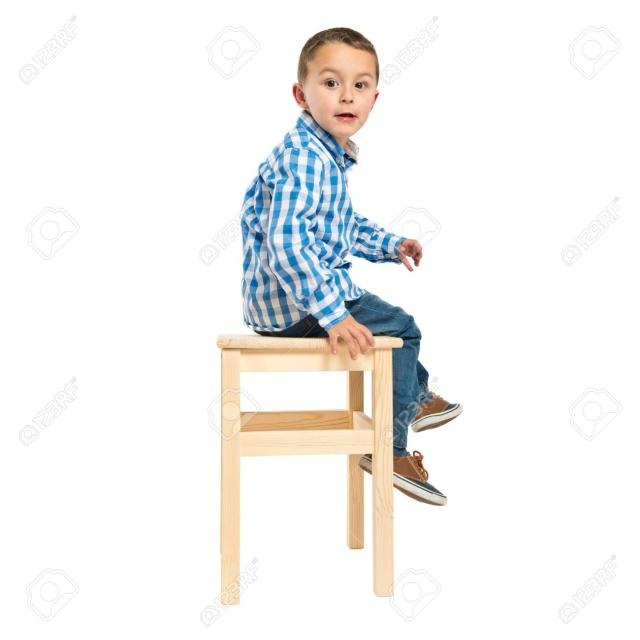nonfall: (242, 10, 477, 519)
